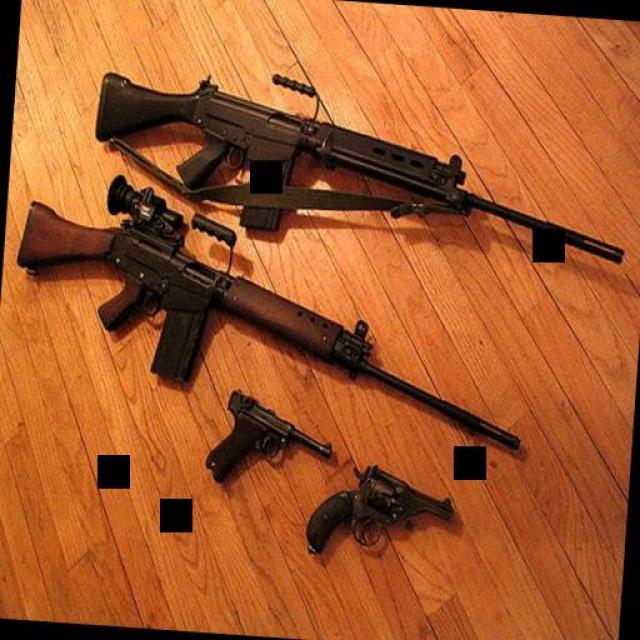gun: (295, 458, 456, 562), (201, 387, 334, 492)
